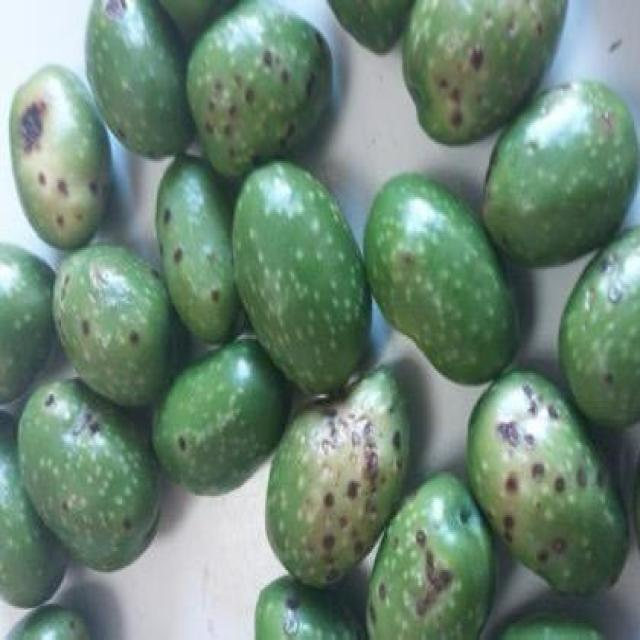Olive Fruit Fly: (468, 369, 628, 591), (267, 367, 410, 585), (18, 379, 157, 570), (187, 0, 329, 178), (402, 0, 565, 142), (152, 339, 288, 494), (369, 471, 494, 638), (53, 244, 174, 405), (11, 64, 110, 248), (155, 155, 239, 341), (559, 227, 638, 424)
